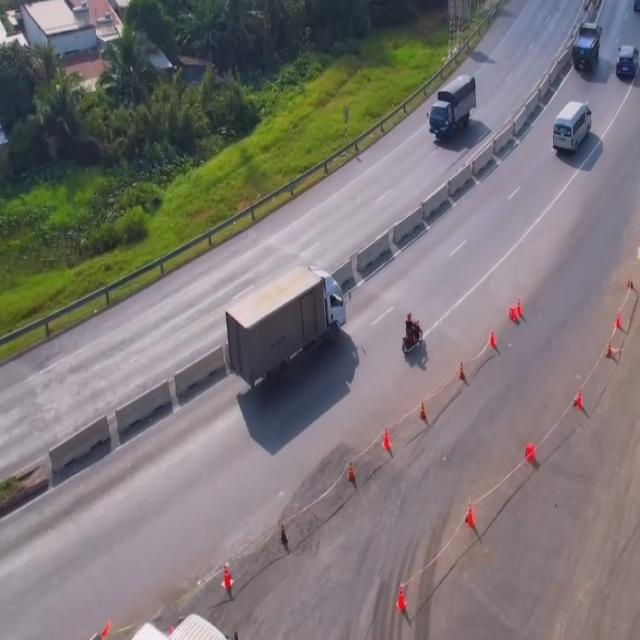car: (552, 102, 595, 153), (615, 42, 640, 81)
motorbike: (401, 315, 424, 355)
truck: (225, 262, 346, 390), (427, 74, 479, 141), (573, 22, 602, 70)
